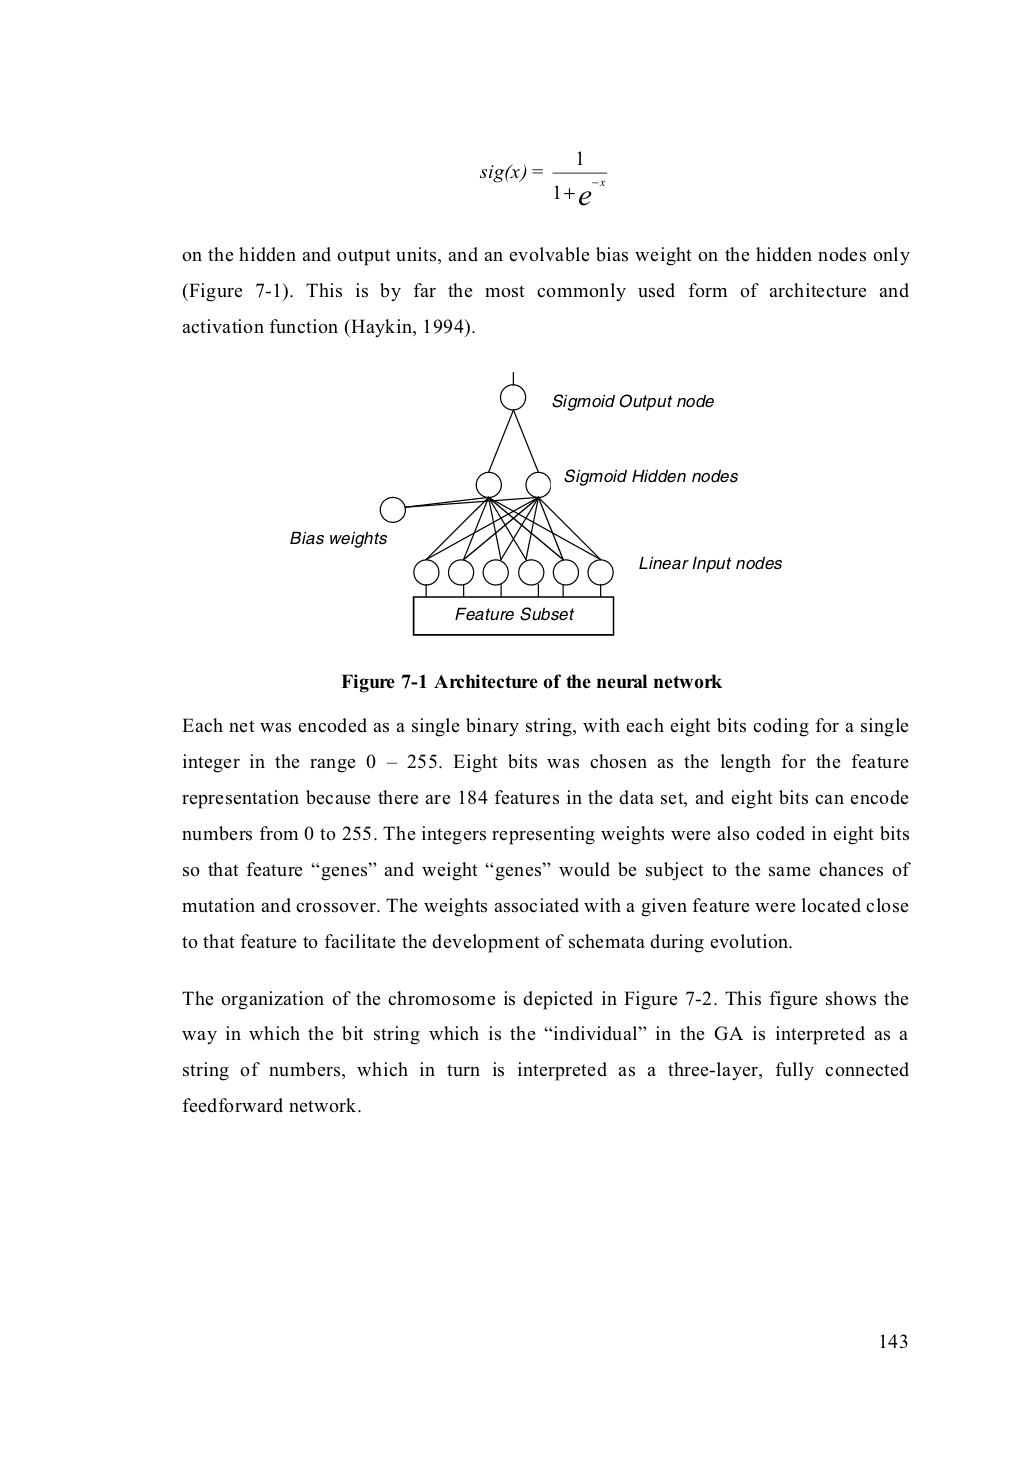figure: (290, 371, 781, 636)
formula: (480, 149, 607, 206)
